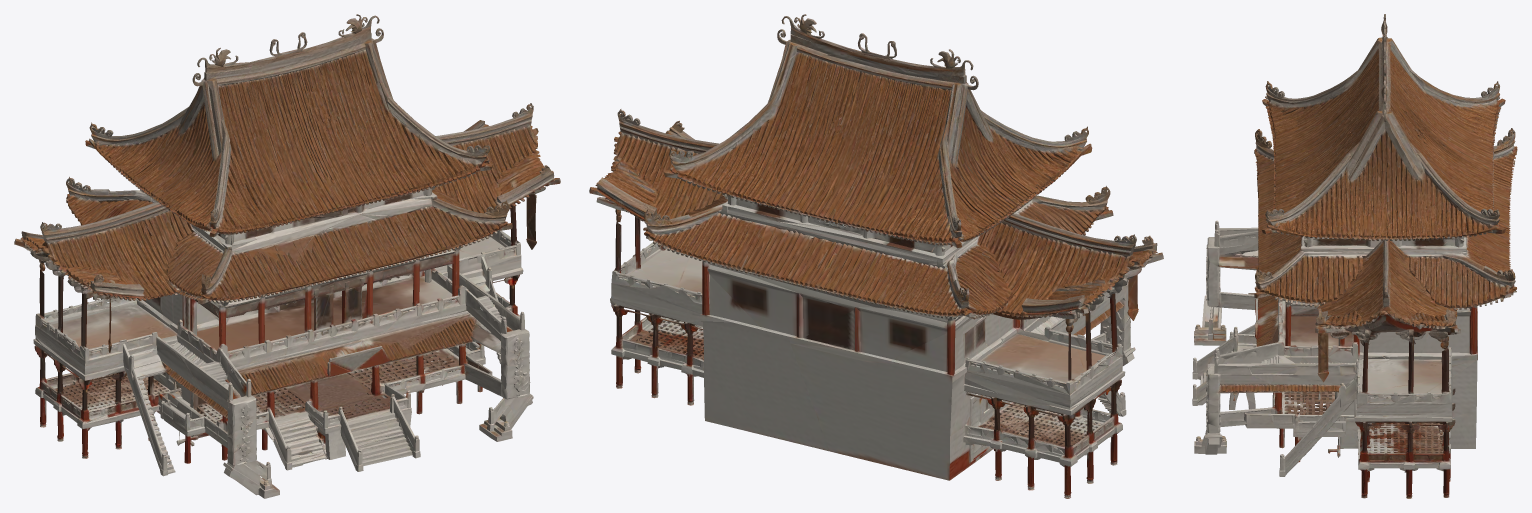
File: palace_grand.hd.glb
3 renders of one model, left to right at view 1: azimuth 30°, elevation 25°; view 2: azimuth 150°, elevation 25°; view 3: azimuth 270°, elevation 25°, orthographic. The views are drawn at different scales.
Size of the model in its own units: 1.9 by 1.35 by 1.13.
Materials: 1 (1 with a texture image).
